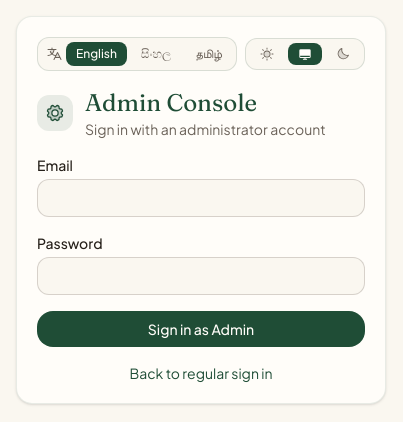
Test: AdminLoginPage › renders in the selected language
The width and height of the screenshot is (403, 422).
What coordinates should you click on to do the following:
click the button "සිංහල"
I would click on:
 (156, 54)
Its box is [131,42,181,66].
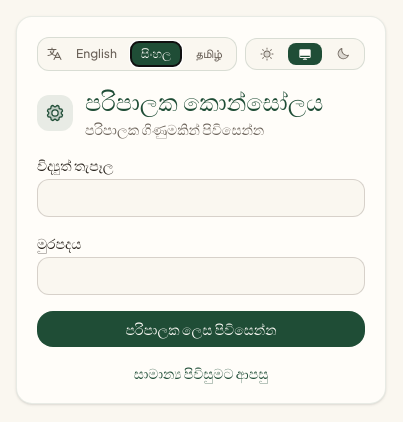
Now the heading "පරිපාලක කොන්සෝලය" is shown, box [85,87,323,119]
